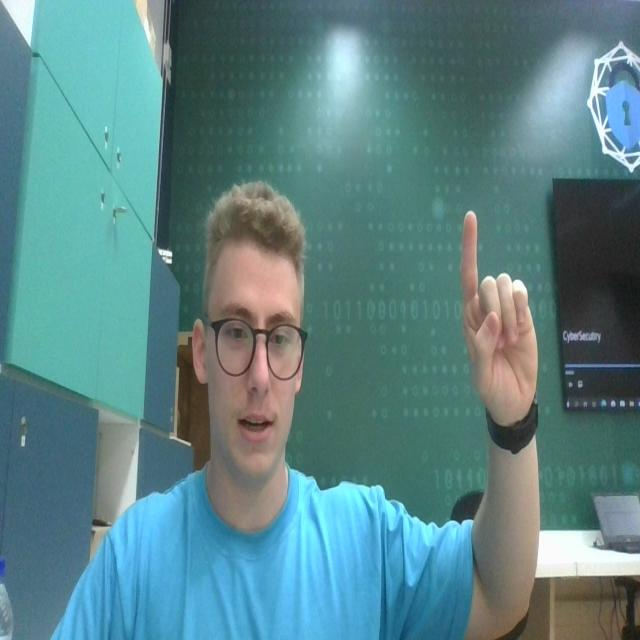D2: (456, 202, 546, 418)
